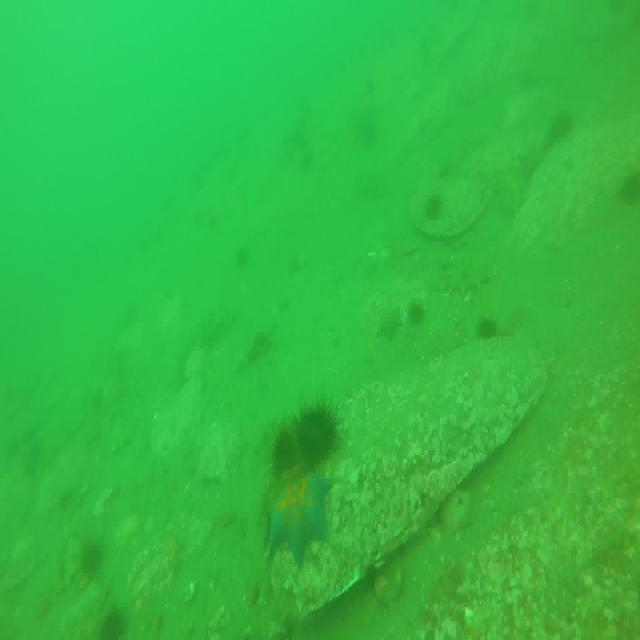echinus: (298, 406, 338, 466), (269, 424, 299, 466), (100, 601, 128, 640), (544, 112, 570, 150), (81, 540, 104, 576), (620, 168, 640, 208), (478, 316, 502, 347), (232, 244, 250, 273), (425, 197, 440, 228), (409, 298, 424, 322)
starfish: (267, 470, 332, 565), (378, 306, 404, 343)
